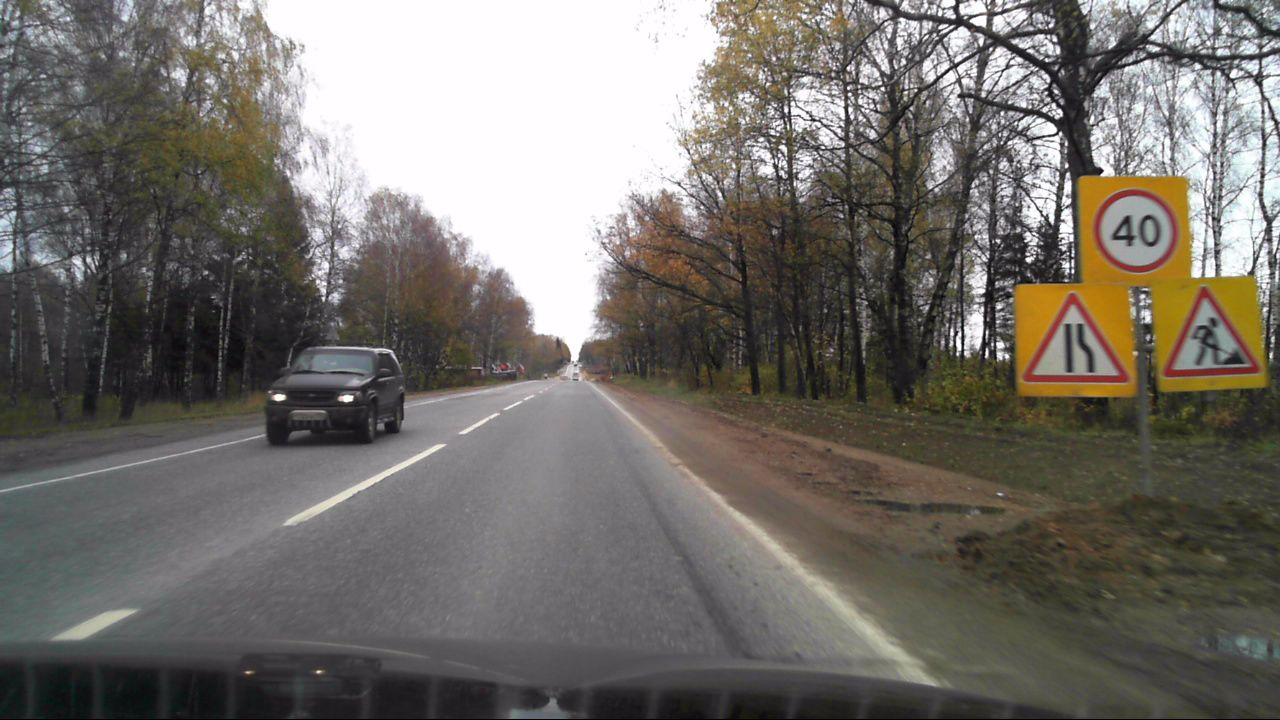speed_warning_40: (1077, 176, 1190, 283)
